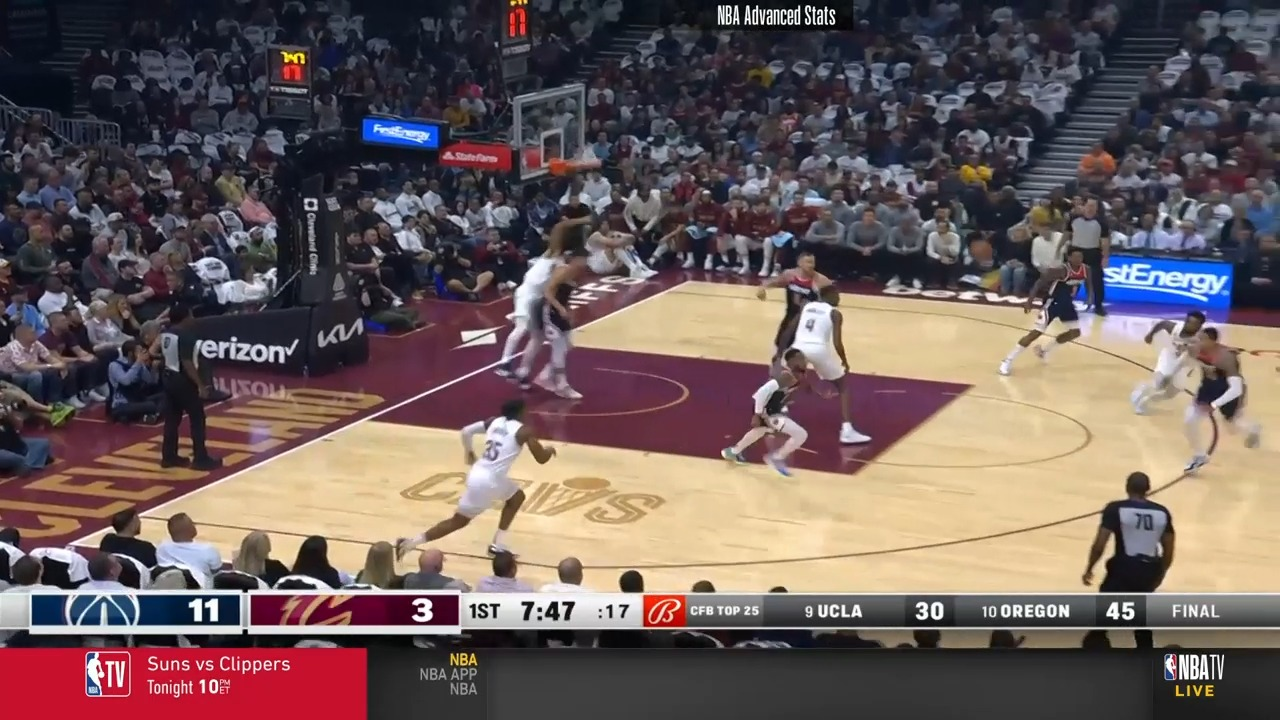net: (538, 144, 604, 177)
player: (395, 395, 556, 570), (493, 210, 593, 391), (1178, 322, 1269, 473), (714, 344, 816, 478), (782, 285, 863, 449), (997, 244, 1095, 375), (752, 251, 833, 386), (535, 242, 594, 401), (1129, 307, 1212, 415)
referee: (1079, 472, 1181, 596), (149, 303, 217, 474), (1063, 192, 1116, 324)
